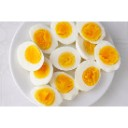begg: (19, 41, 44, 71), (77, 61, 102, 91), (52, 22, 77, 45), (31, 88, 62, 105), (79, 21, 105, 41)
